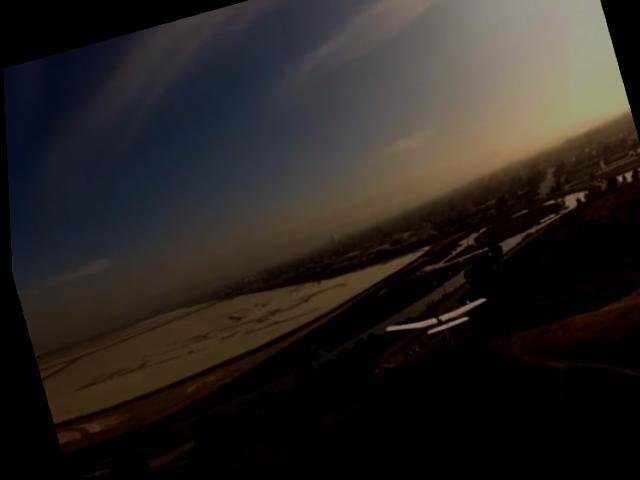uav: (374, 286, 499, 366)
